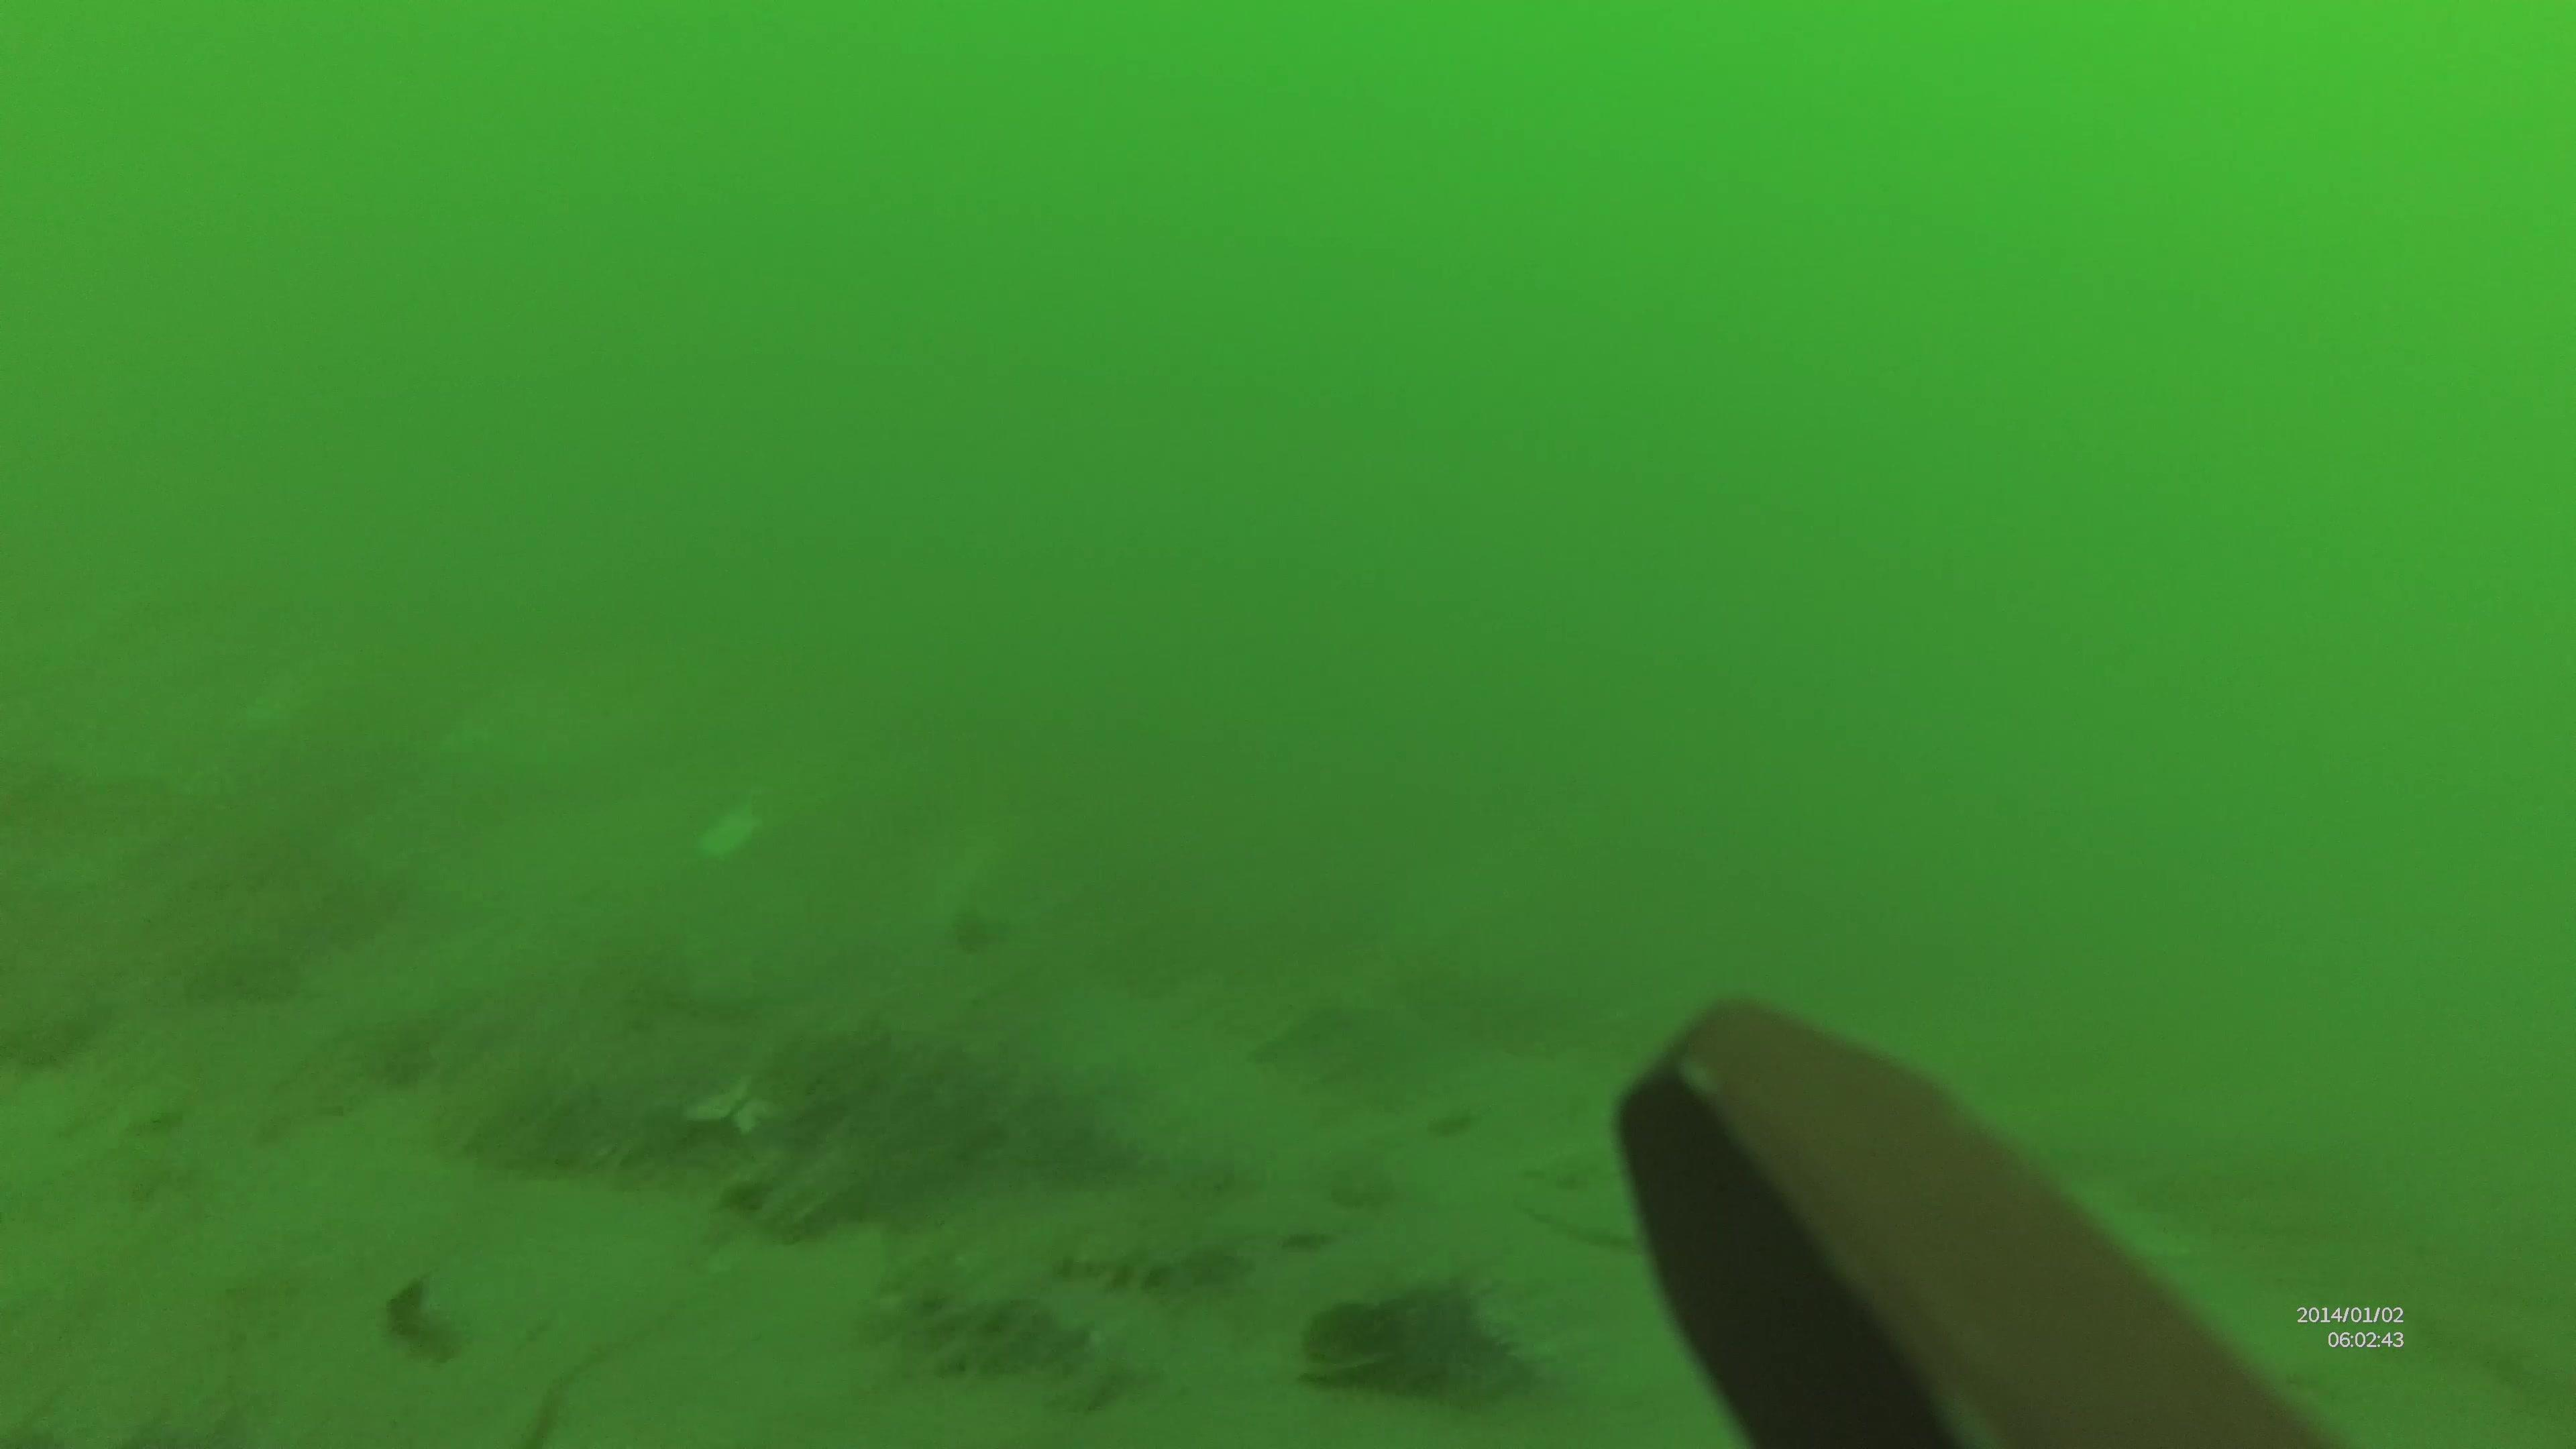holothurian: (881, 1265, 1138, 1396), (1040, 1219, 1258, 1307)
